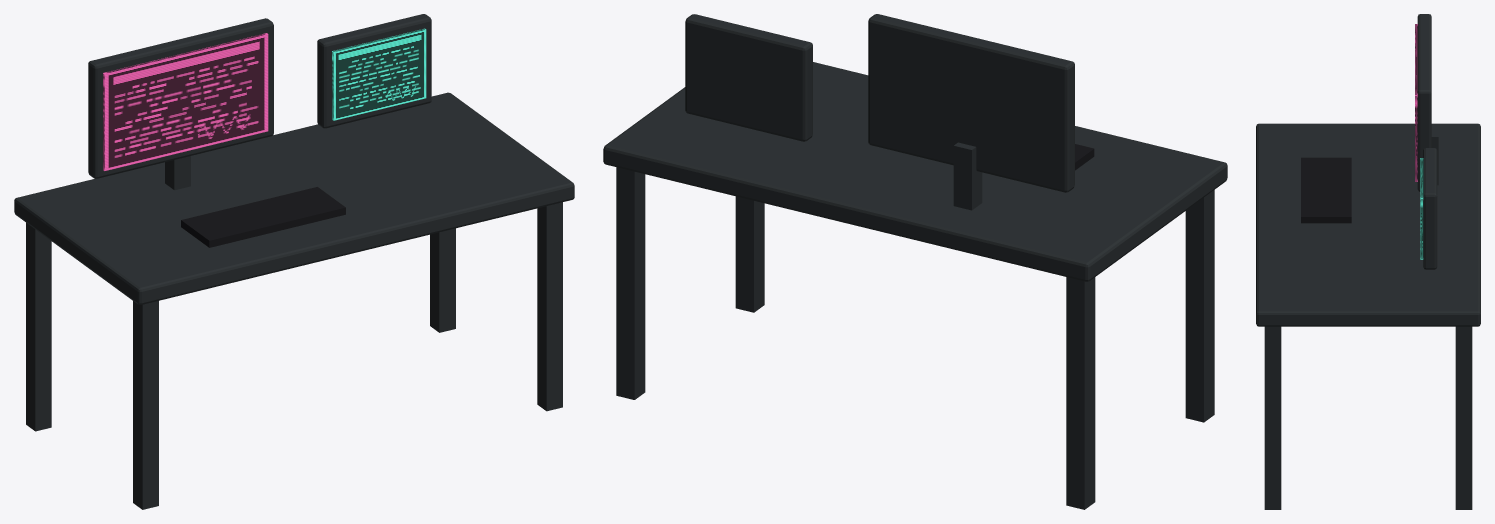
The model's file is desk.glb.
The picture shows the model from 3 angles, left to right: view 1: azimuth 30°, elevation 25°; view 2: azimuth 150°, elevation 25°; view 3: azimuth 270°, elevation 25°; orthographic projection. The views are drawn at different scales.
Parts seen in each view (by area): view 1: desk; view 2: desk; view 3: desk.
Part boxes in pixels (x1,y1,x2,y2): desk: (14, 14, 574, 509); desk: (603, 14, 1227, 509); desk: (1256, 14, 1480, 509).
Bounding box in the file's own units: 1.6 × 1.3 × 0.8.
Materials: 4 (2 with a texture image).
